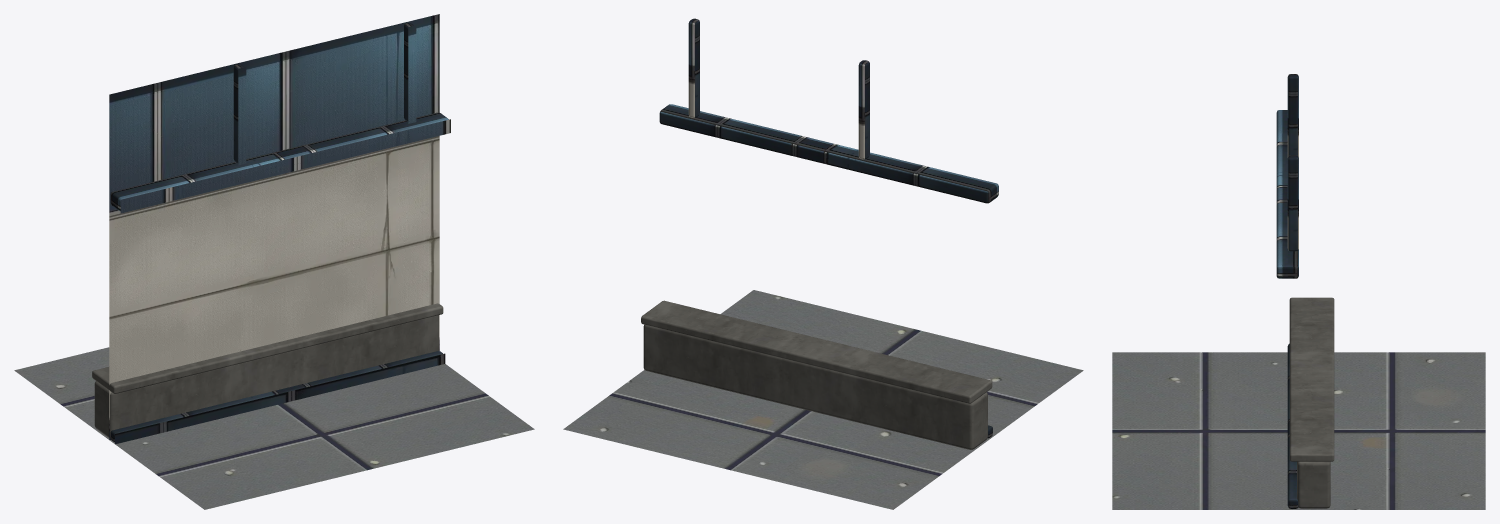
Rendered from town_concrete.glb.
3 renders of one model, left to right at view 1: azimuth 30°, elevation 25°; view 2: azimuth 150°, elevation 25°; view 3: azimuth 270°, elevation 25°, orthographic. The views are drawn at different scales.
Visible parts, largest first — view 1: prop (×3); view 2: prop (×3); view 3: prop (×3).
Part boxes in pixels (x1,y1,x2,y2): prop (×3): (14,14,534,509); prop (×3): (563,18,1083,509); prop (×3): (1112,74,1485,509).
Size of the model in its own units: 1 by 1 by 1.
3 materials, 3 textured.
